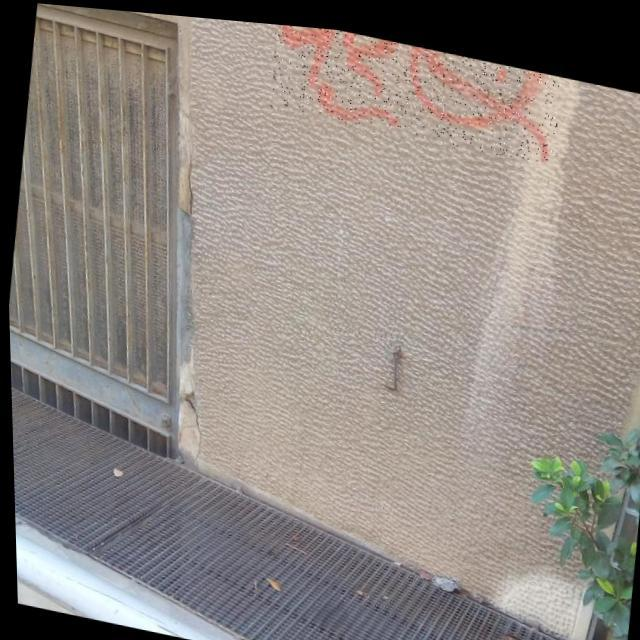-: (265, 18, 563, 156)
